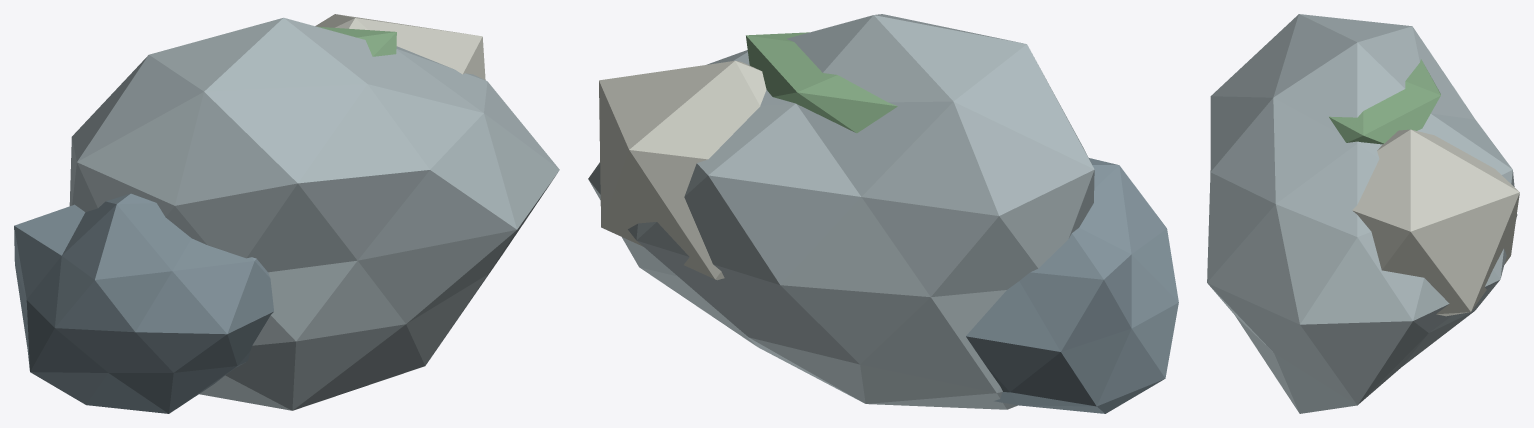
Rendered from rock_cluster.glb.
The picture shows the model from 3 angles, left to right: view 1: azimuth 30°, elevation 25°; view 2: azimuth 150°, elevation 25°; view 3: azimuth 270°, elevation 25°; orthographic projection. The views are drawn at different scales.
Parts seen in each view (by area): view 1: Main weathered stone.001; view 2: Main weathered stone.001; view 3: Main weathered stone.001.
Boxes of the visible parts, <box> form: Main weathered stone.001: <box>14,14,559,413</box>; Main weathered stone.001: <box>588,14,1178,413</box>; Main weathered stone.001: <box>1207,14,1519,413</box>.
Size of the model in its own units: 1.82 by 1.23 by 1.06.
